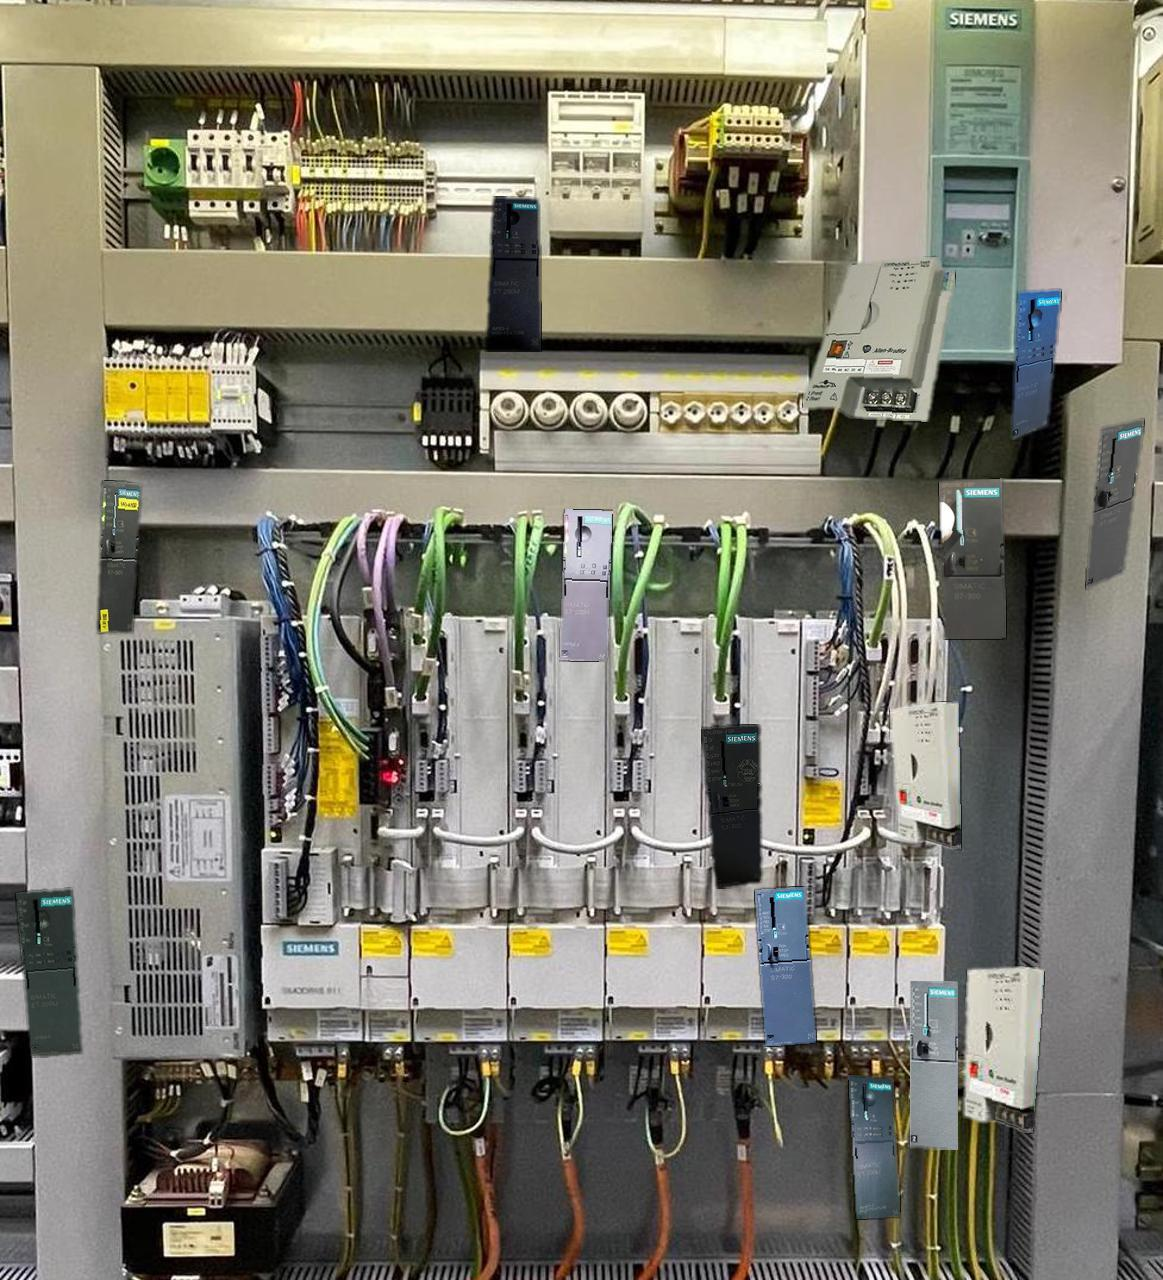AllenBradley: (803, 256, 954, 421), (963, 967, 1043, 1132), (890, 702, 960, 849)
Siemens: (939, 478, 1005, 639), (701, 724, 760, 888), (1086, 419, 1143, 588), (755, 888, 815, 1046), (910, 981, 957, 1150), (97, 479, 140, 632)
